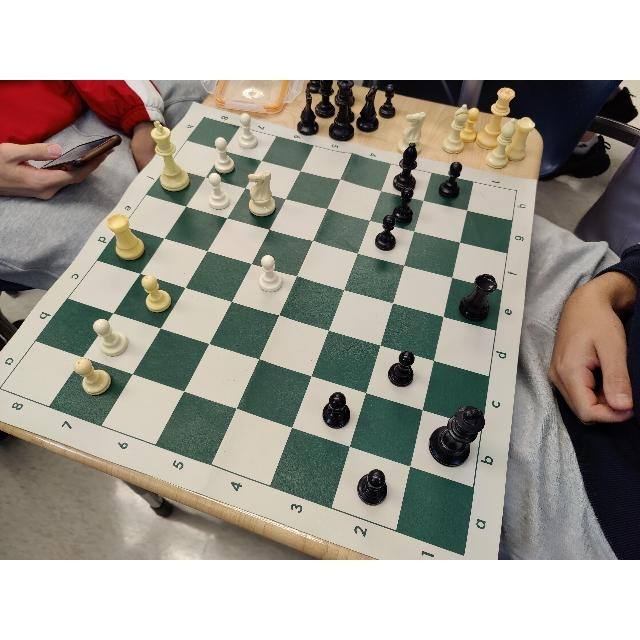black-bishop: (394, 143, 418, 191)
black-king: (429, 404, 485, 467)
black-pawn: (323, 390, 353, 430), (357, 469, 389, 506), (385, 351, 415, 387), (440, 162, 464, 198), (392, 187, 414, 226), (376, 213, 396, 251)
black-rook: (458, 274, 497, 322)
white-king: (151, 119, 191, 193)
white-knight: (248, 170, 276, 215)
white-pawn: (74, 358, 112, 396), (93, 319, 129, 356), (141, 275, 172, 313), (258, 255, 284, 293), (208, 173, 230, 209), (215, 138, 235, 174), (239, 113, 259, 149)
white-rook: (108, 213, 145, 262)
